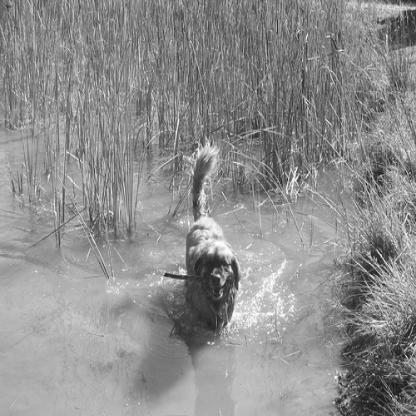Leonberger: (157, 136, 260, 353)
